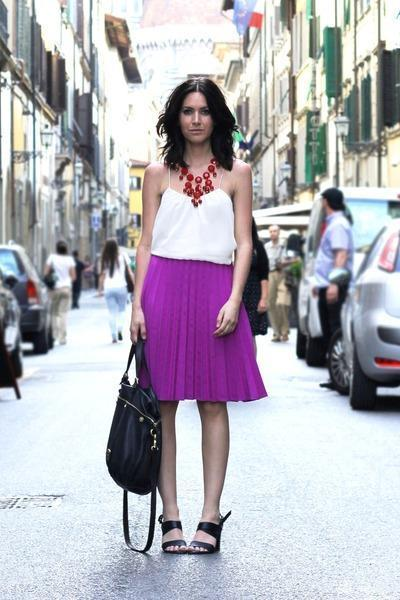bag: (106, 327, 178, 555)
shirt: (148, 180, 235, 263)
shoe: (158, 514, 227, 555)
skirt: (140, 252, 267, 412)
